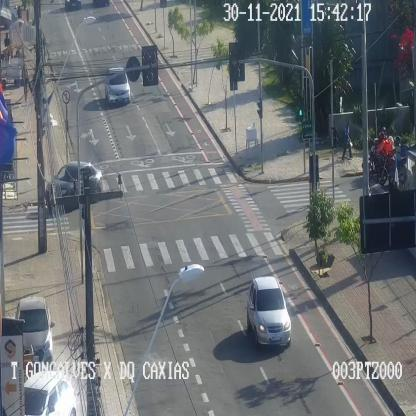car: (246, 274, 292, 348), (45, 161, 104, 209), (15, 298, 54, 361), (24, 374, 77, 416), (105, 66, 131, 104)
motorbike: (377, 138, 409, 186), (367, 132, 393, 178)
person: (342, 119, 354, 159)
